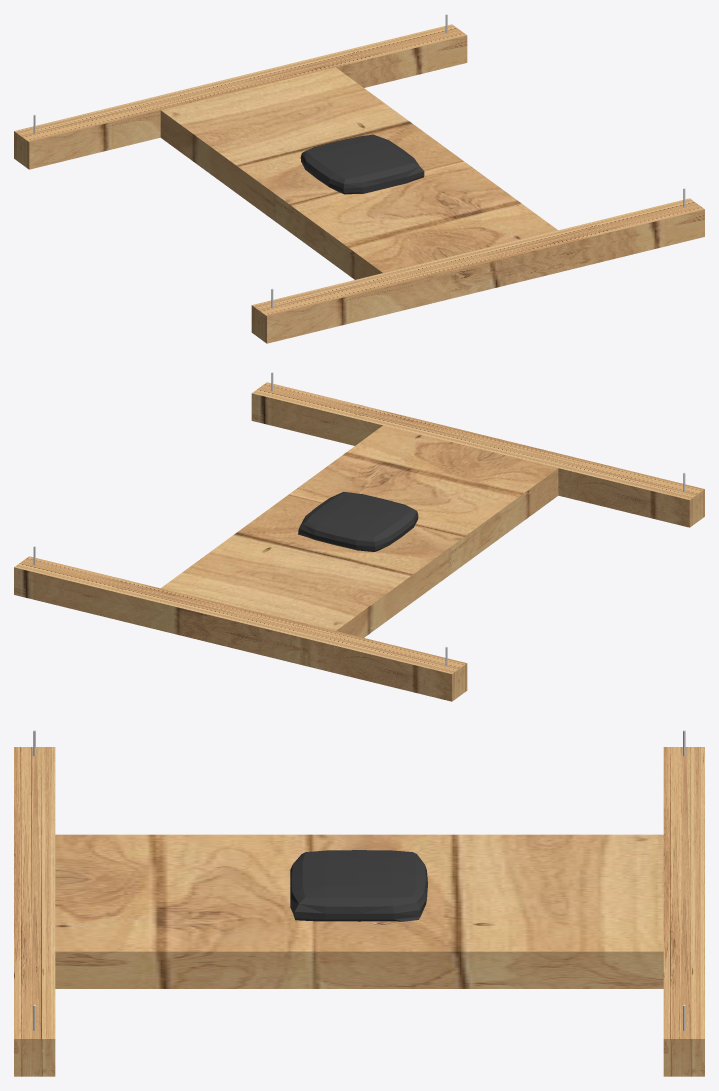
File: Drone_new_final.dae
3 views of the same model, one above another, from view 1: azimuth 30°, elevation 25°; view 2: azimuth 150°, elevation 25°; view 3: azimuth 270°, elevation 25° (orthographic). The views are drawn at different scales.
Visible parts, largest first — view 1: Cube.001, Cube.002, Cube, Cube.003; view 2: Cube.001, Cube, Cube.002, Cube.003; view 3: Cube.001, Cube.002, Cube, Cube.003.
Part boxes in pixels (left/top/right/bottom): Cube.001: left=160, top=67, right=557, bottom=279; Cube.002: left=251, top=198, right=704, bottom=343; Cube: left=14, top=24, right=467, bottom=169; Cube.003: left=300, top=134, right=424, bottom=194; Cube.001: left=161, top=425, right=558, bottom=637; Cube: left=14, top=556, right=467, bottom=701; Cube.002: left=251, top=382, right=704, bottom=527; Cube.003: left=298, top=492, right=418, bottom=551; Cube.001: left=55, top=834, right=663, bottom=988; Cube.002: left=14, top=747, right=55, bottom=1076; Cube: left=663, top=747, right=704, bottom=1076; Cube.003: left=290, top=850, right=427, bottom=921.
Size of the model in its own units: 0.5 by 0.5 by 0.05.
3 materials, 2 textured.
